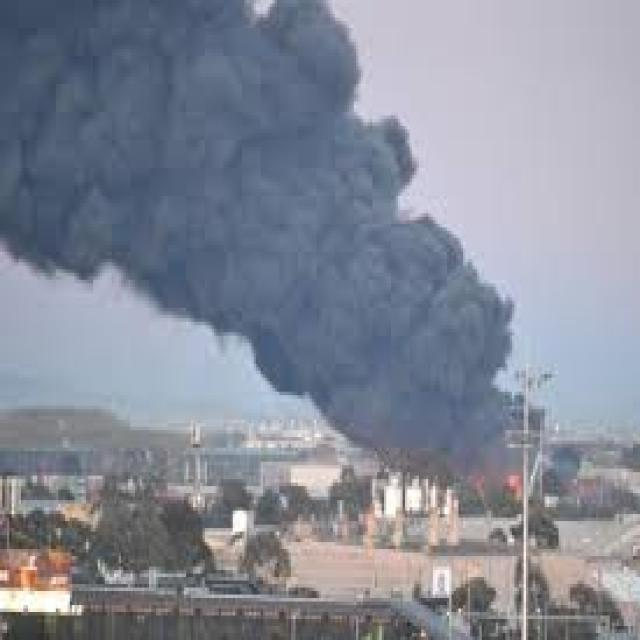Smoke: (0, 0, 514, 493)
